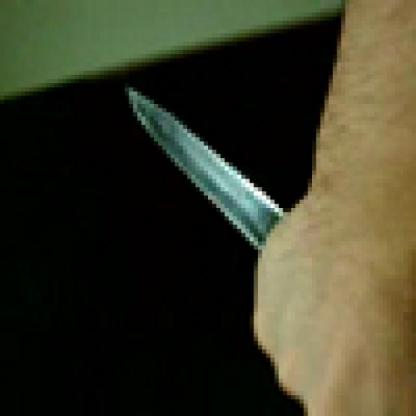Knife: (121, 79, 296, 258)
